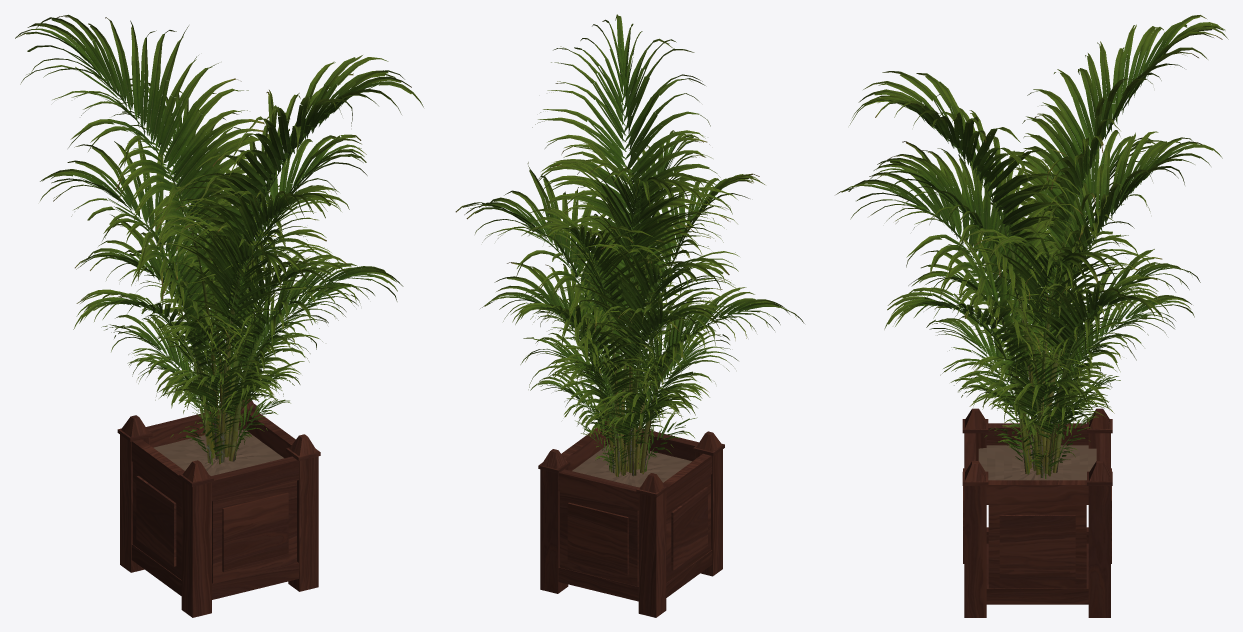
File: palm-a.glb
3 renders of one model, left to right at view 1: azimuth 30°, elevation 25°; view 2: azimuth 150°, elevation 25°; view 3: azimuth 270°, elevation 25°, orthographic. The views are drawn at different scales.
Parts seen in each view (by area): view 1: palm, planter, palm-b; view 2: palm, planter, palm-b; view 3: palm, palm-b, planter.
Boxes of the visible parts, box(x1,y1,x2,y2) form: palm: box(15, 14, 423, 464); planter: box(117, 398, 320, 617); palm-b: box(75, 78, 374, 456); palm: box(455, 14, 804, 476); planter: box(538, 418, 724, 617); palm-b: box(480, 130, 738, 476); palm: box(836, 15, 1228, 474); palm-b: box(869, 131, 1222, 478); planter: box(962, 408, 1112, 617).
Size of the model in its own units: 1.23 by 1.85 by 1.24.
Materials: 3 (2 with a texture image).
